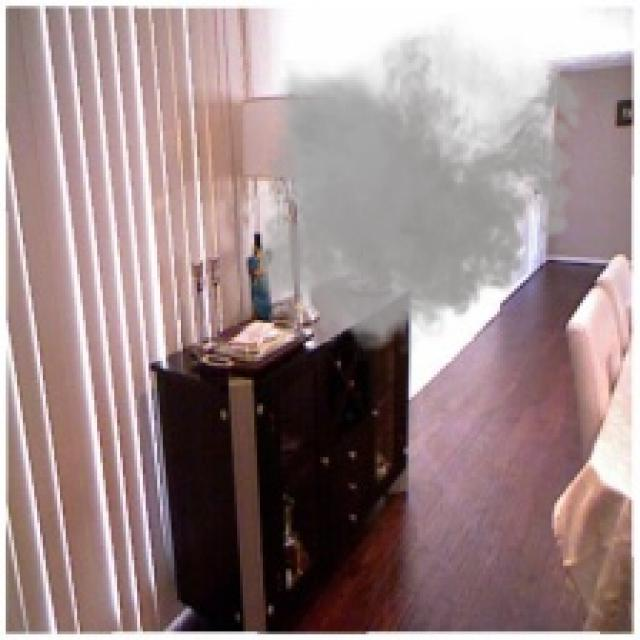smoke: (246, 14, 591, 363)
